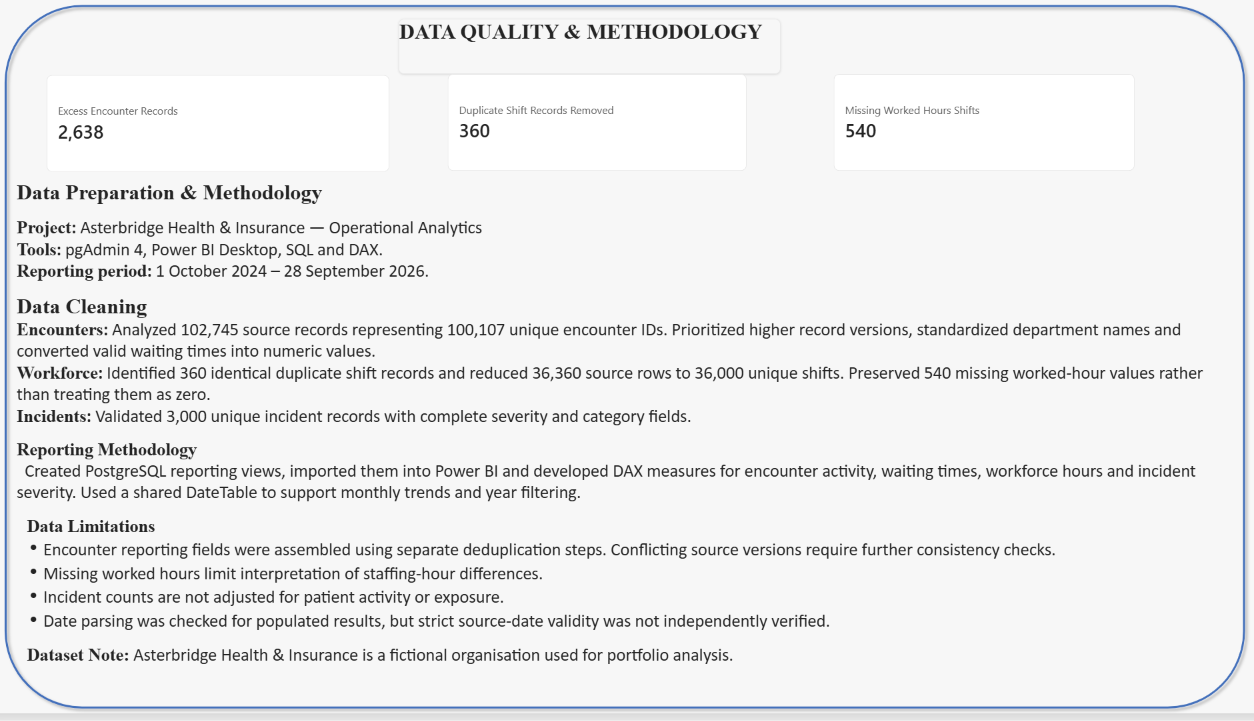

This screenshot's page, from the dashboard's own definition file:
{"tool":"powerbi","page":{"name":"Data Quality & Methodology","canvas":[1920,1080],"ordinal":4},"visuals":[{"type":"shape","box":[15.1,1.5,1889.3,1079.4],"z":0},{"type":"textbox","box":[618.5,31.7,576.3,83],"z":1},{"type":"cardVisual","fields":{"Data":["_Measures.Excess Encounter Records Display"]},"box":[87.5,116.2,517.5,146.3],"z":2},{"type":"cardVisual","fields":{"Data":["_Measures.Missing Worked Hours Shifts"]},"box":[1274.8,114.7,454.1,146.3],"z":3},{"type":"cardVisual","fields":{"Data":["_Measures.Duplicate Shift Records Removed"]},"box":[692.5,114.7,451.1,146.3],"z":4},{"type":"textbox","box":[42.2,274.6,1834.5,789],"z":5}]}

Visuals, with their boxes in screenshot pixels (x1, y1, x2, y2), scaled from the page's 1920x1080 canvas onto the 1254x721 screenshot:
shape: BBox(10, 1, 1244, 720)
textbox: BBox(404, 21, 780, 77)
cardVisual - _Measures.Excess Encounter Records Display: BBox(57, 78, 395, 175)
cardVisual - _Measures.Missing Worked Hours Shifts: BBox(833, 77, 1129, 174)
cardVisual - _Measures.Duplicate Shift Records Removed: BBox(452, 77, 747, 174)
textbox: BBox(28, 183, 1226, 710)
